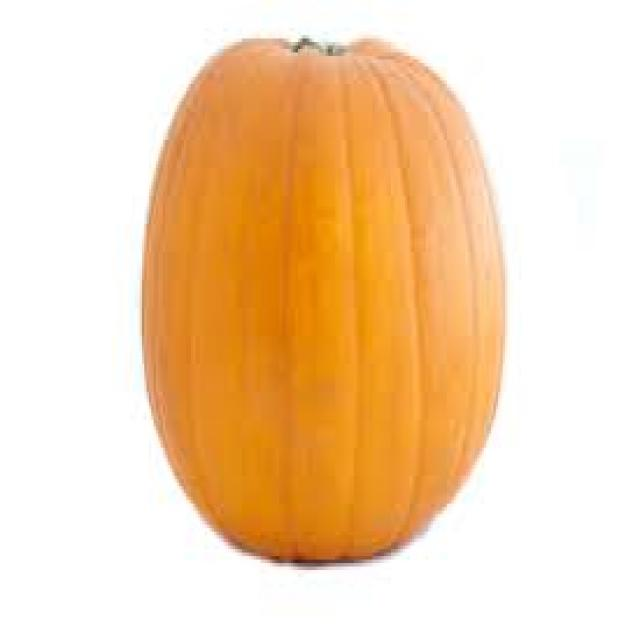organic waste: (137, 32, 503, 560)
